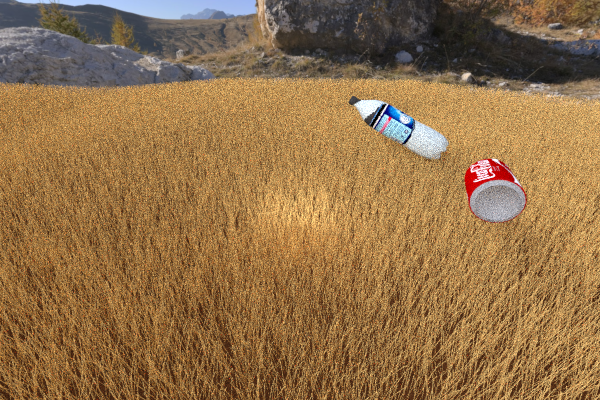bottle: (348, 95, 448, 159)
can: (464, 158, 527, 223)
